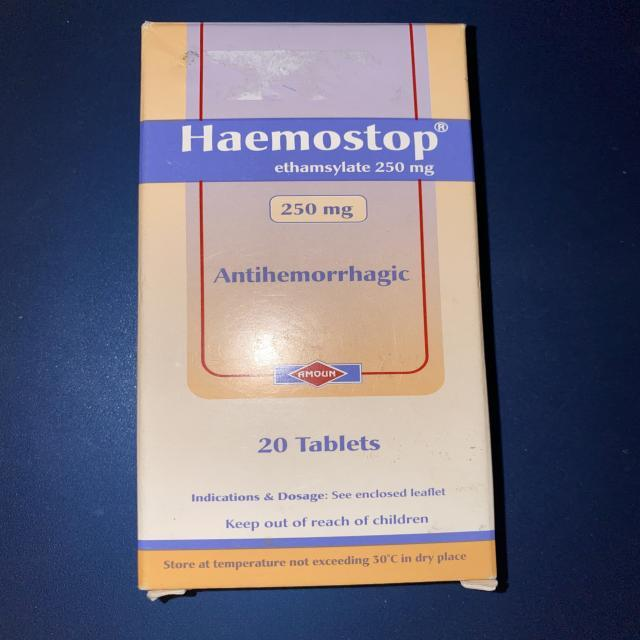Medicine Name: (170, 120, 440, 164)
